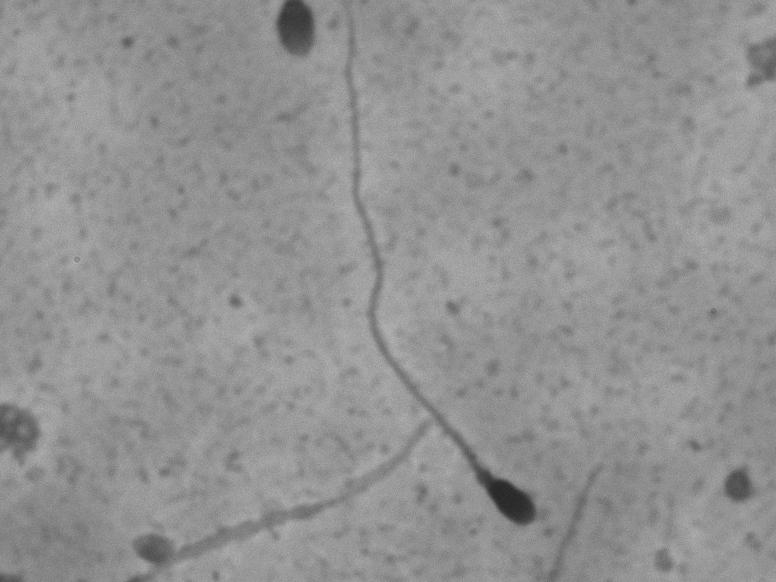Abnormal: (334, 10, 550, 537)
